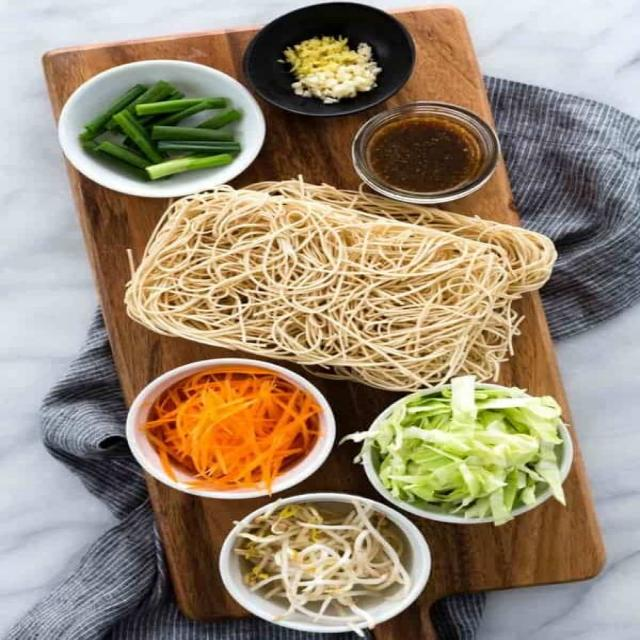Bean: (226, 496, 415, 639)
Cabbage head: (358, 378, 570, 522)
Noodle: (122, 176, 534, 393)
Spring Onion: (79, 73, 244, 180)
